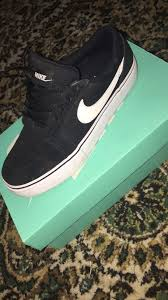nike: (81, 57, 125, 125)
